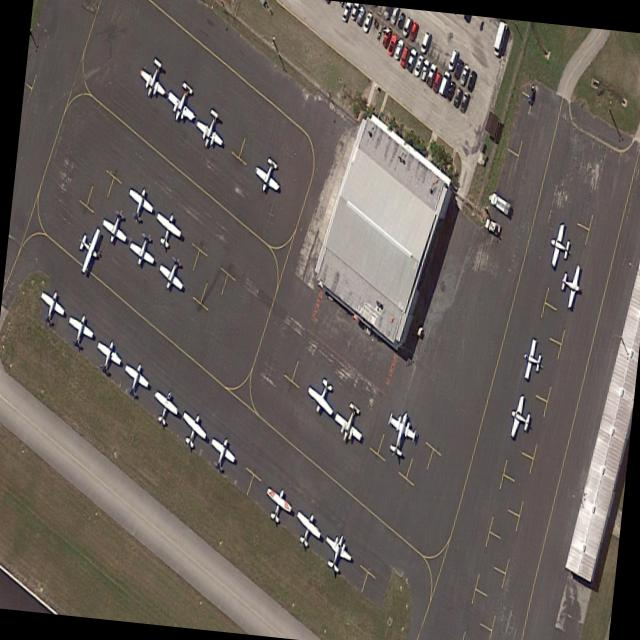large-vehicle: (490, 18, 506, 56), (488, 188, 510, 215), (483, 214, 500, 236)
plane: (161, 71, 201, 133), (380, 402, 419, 461), (329, 393, 367, 451), (303, 366, 339, 425), (317, 524, 354, 579), (71, 214, 103, 277), (191, 100, 227, 156), (288, 499, 324, 554), (135, 50, 170, 106), (175, 403, 209, 456), (250, 148, 283, 202), (146, 381, 180, 431), (149, 203, 183, 253), (34, 281, 67, 332), (259, 479, 293, 528), (154, 248, 187, 298), (544, 216, 573, 272), (62, 306, 96, 353), (98, 203, 131, 251), (122, 179, 155, 227), (205, 428, 237, 477), (118, 354, 150, 403), (91, 332, 123, 381), (555, 258, 583, 310), (506, 390, 533, 443), (126, 226, 157, 272), (518, 334, 544, 382)
small-vehicle: (385, 30, 398, 56), (437, 68, 449, 94), (446, 45, 458, 70), (380, 24, 392, 49), (465, 67, 476, 92), (361, 7, 372, 32), (405, 45, 416, 70), (424, 61, 435, 85), (418, 29, 429, 53), (412, 52, 423, 76), (430, 68, 441, 91), (452, 56, 463, 79), (392, 36, 403, 59), (418, 56, 429, 79), (400, 14, 411, 36), (398, 43, 409, 65), (458, 62, 469, 84), (354, 4, 365, 25), (444, 78, 455, 99), (458, 90, 469, 110), (339, 1, 350, 20), (407, 20, 417, 40), (348, 2, 358, 21), (451, 86, 461, 104), (526, 82, 534, 103), (396, 13, 404, 29)
